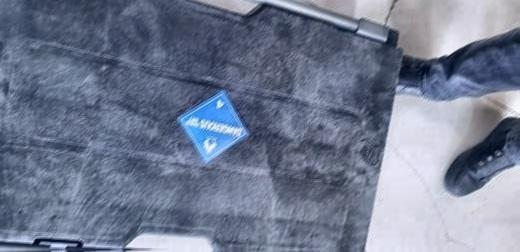dangerous-when-wet: (172, 89, 257, 173)
